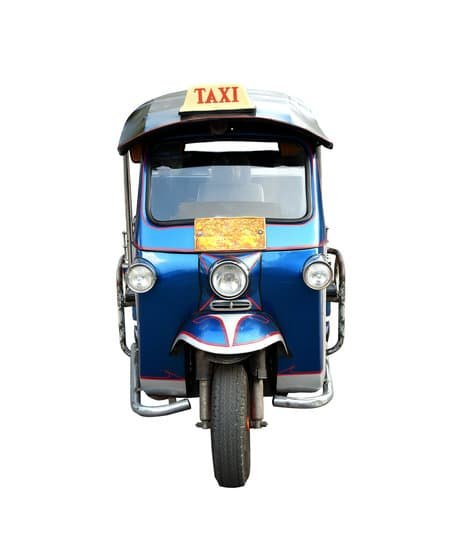threewheel: (117, 85, 346, 488)
